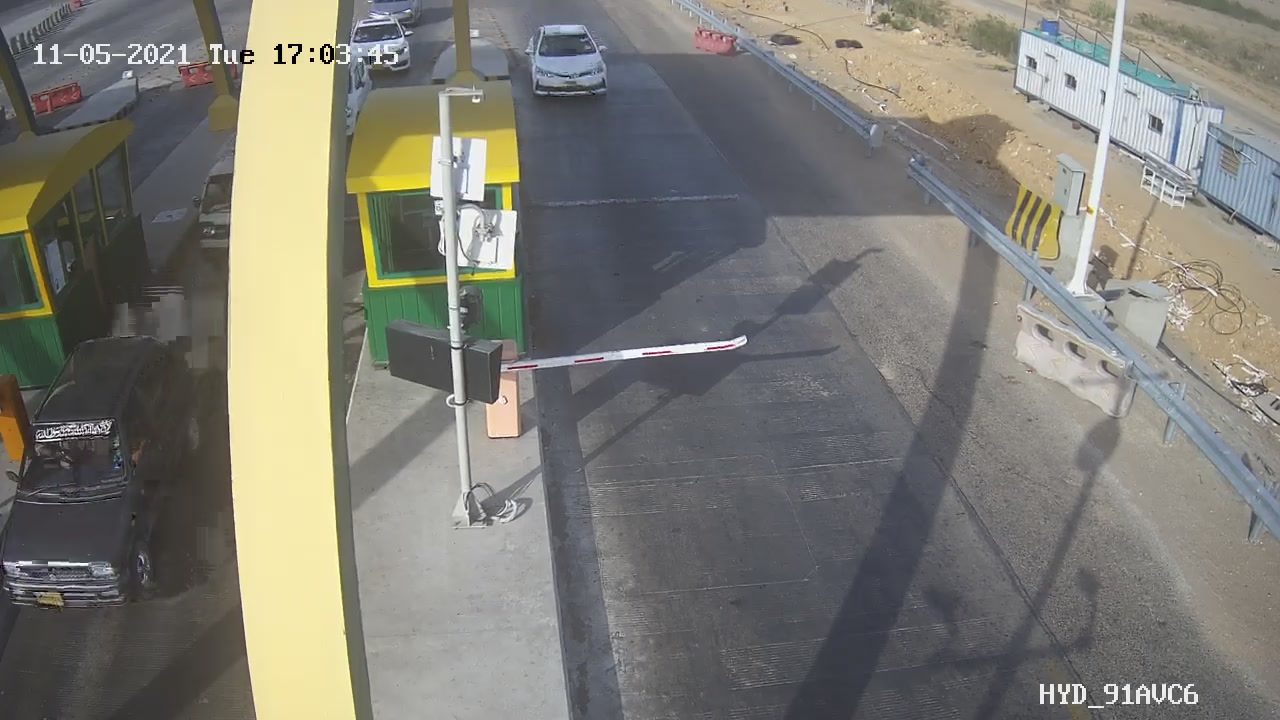F1: (517, 9, 624, 108)
